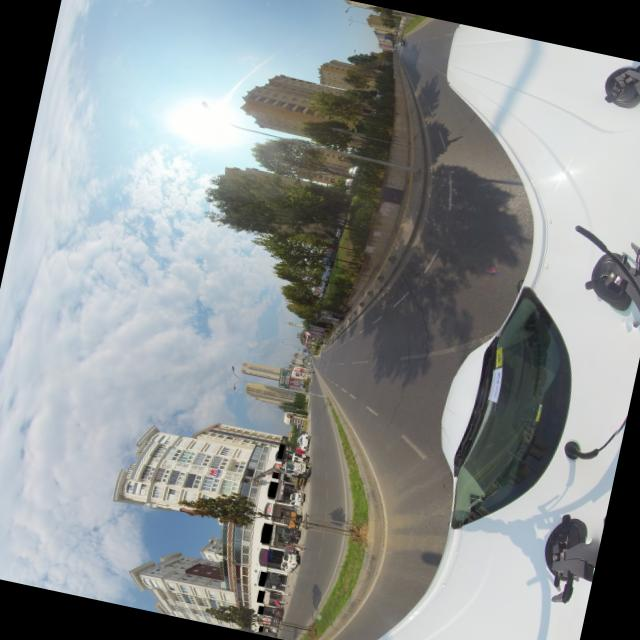SignStore: (262, 522, 272, 543), (267, 480, 278, 497), (260, 548, 268, 564), (277, 443, 285, 458), (260, 570, 266, 586), (259, 589, 263, 602), (272, 472, 279, 478), (259, 604, 263, 614), (260, 624, 263, 631)
